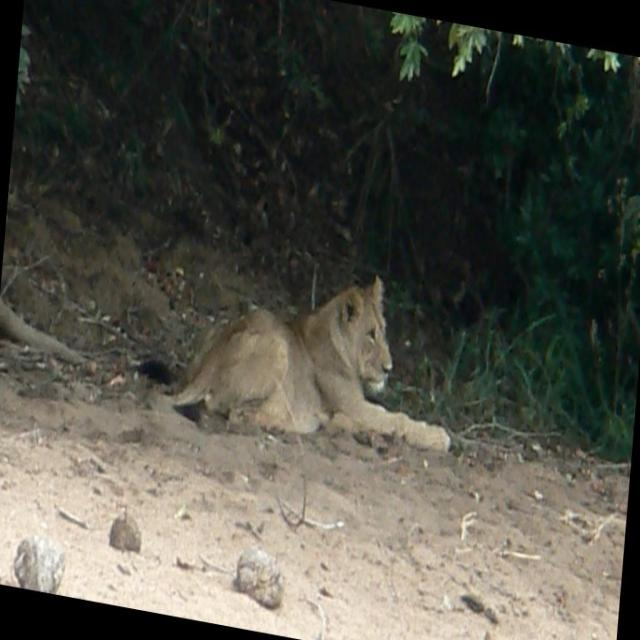Lion: (148, 233, 462, 463)
